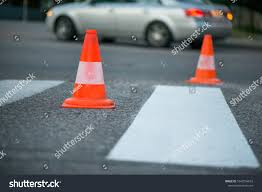car: (47, 1, 240, 48)
cone: (61, 31, 117, 109), (187, 34, 226, 84)
